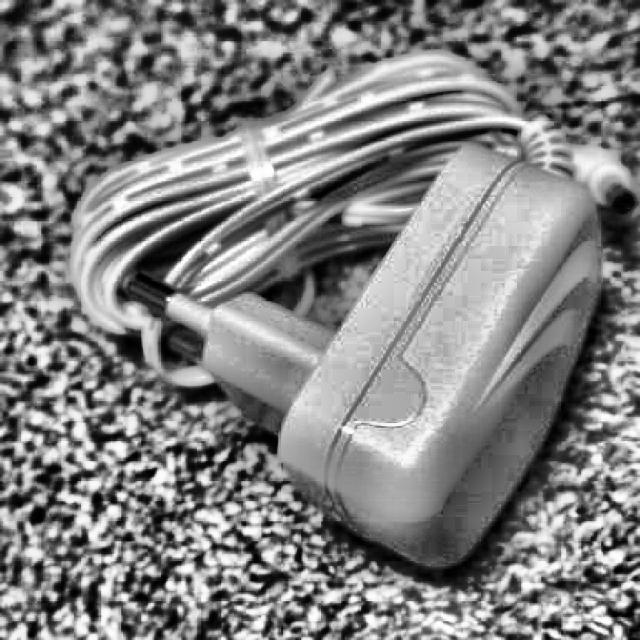Cable: (64, 46, 640, 390)
